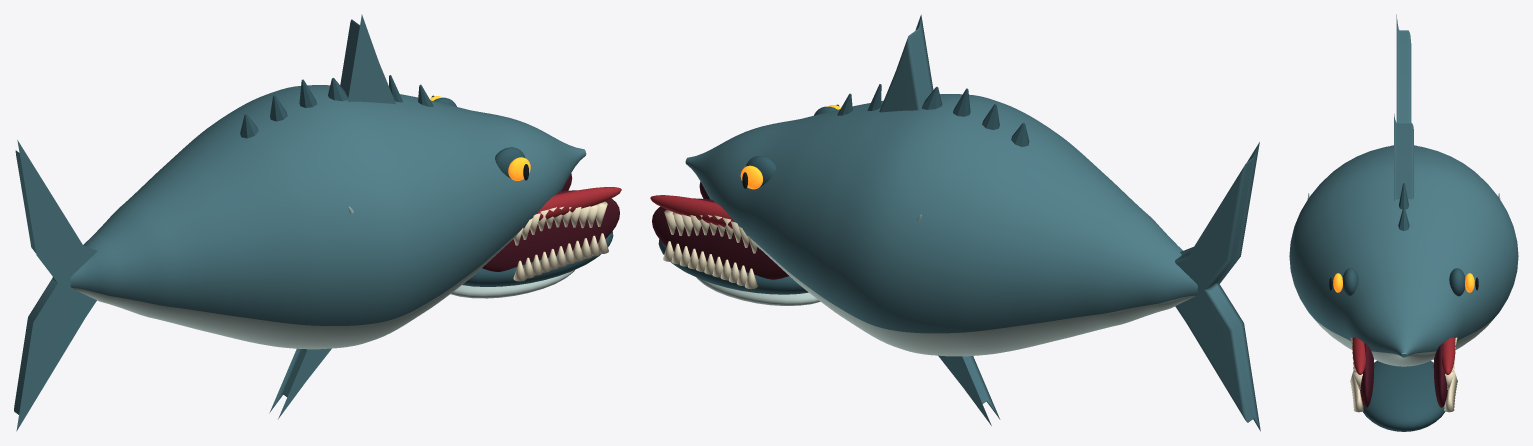
3 views of the same model, side by side, from view 1: azimuth 30°, elevation 25°; view 2: azimuth 150°, elevation 25°; view 3: azimuth 270°, elevation 25° (orthographic). The views are drawn at different scales.
Visible parts, largest first — view 1: SHARK | main body, SHARK | caudal crescent, SHARK | open maw, SHARK | dorsal blade, SHARK | lower jaw, SHARK | gumline, SHARK | chin plate, SHARK | left pectoral; view 2: SHARK | main body, SHARK | caudal crescent, SHARK | open maw.001, SHARK | dorsal blade, SHARK | lower jaw, SHARK | gumline.001, SHARK | chin plate, SHARK | right pectoral, SHARK | left pectoral; view 3: SHARK | main body, SHARK | lower jaw, SHARK | caudal crescent, SHARK | dorsal blade, SHARK | open maw, SHARK | open maw.001, SHARK | gumline, SHARK | gumline.001, SHARK | eye socket, SHARK | eye socket.001.
Part boxes in pixels (x1,y1,x2,y2): SHARK | main body: (70,85,586,349); SHARK | caudal crescent: (14,140,97,431); SHARK | open maw: (482,190,619,271); SHARK | dorsal blade: (340,14,395,104); SHARK | lower jaw: (462,231,613,286); SHARK | gumline: (536,187,621,220); SHARK | chin plate: (450,270,574,298); SHARK | left pectoral: (278,348,331,419); SHARK | main body: (685,94,1197,356); SHARK | caudal crescent: (1175,142,1260,431); SHARK | open maw.001: (652,198,788,279); SHARK | dorsal blade: (879,14,933,112); SHARK | lower jaw: (658,239,808,294); SHARK | gumline.001: (650,195,734,228); SHARK | chin plate: (696,277,820,305); SHARK | right pectoral: (938,355,991,425); SHARK | left pectoral: (962,356,1000,419); SHARK | main body: (1289,145,1518,366); SHARK | lower jaw: (1362,353,1445,431); SHARK | caudal crescent: (1396,14,1411,122); SHARK | dorsal blade: (1394,114,1413,200); SHARK | open maw: (1360,343,1374,407); SHARK | open maw.001: (1433,343,1447,407); SHARK | gumline: (1352,337,1365,374); SHARK | gumline.001: (1442,337,1455,374); SHARK | eye socket: (1342,268,1358,296); SHARK | eye socket.001: (1449,268,1465,296).
Size of the model in its own units: 14.66 by 9.1 by 6.21.
